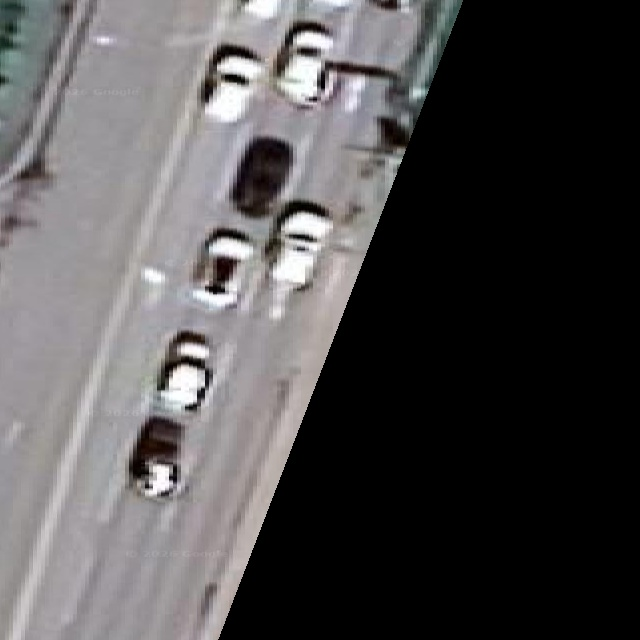car: (267, 202, 332, 289), (191, 229, 254, 309), (232, 137, 293, 216), (128, 416, 182, 498), (156, 331, 211, 411)
